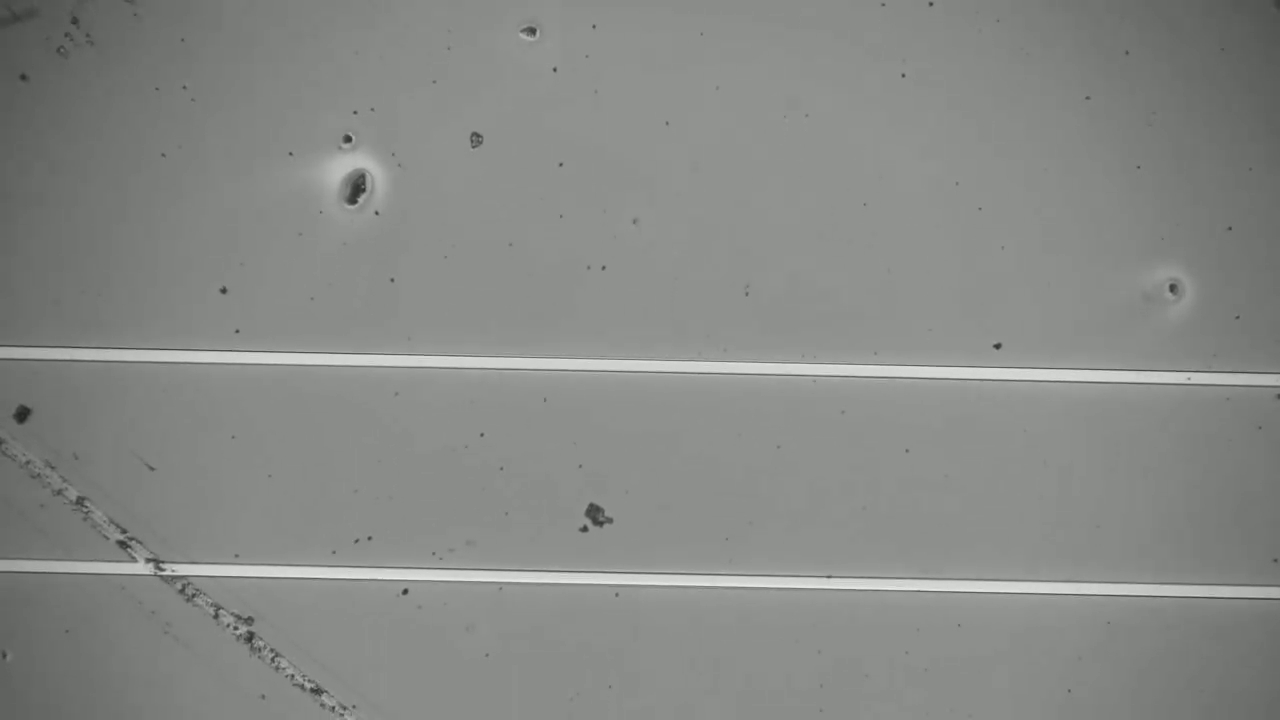scratch: (12, 448, 348, 706)
